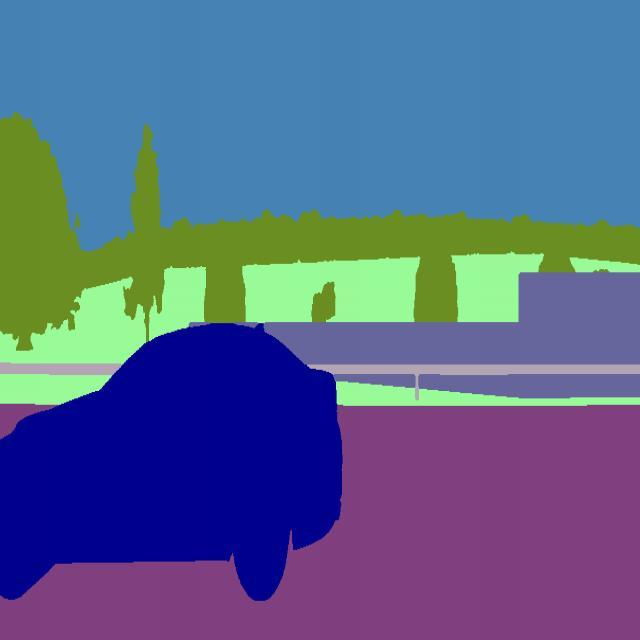unsafe: (0, 316, 347, 610)
